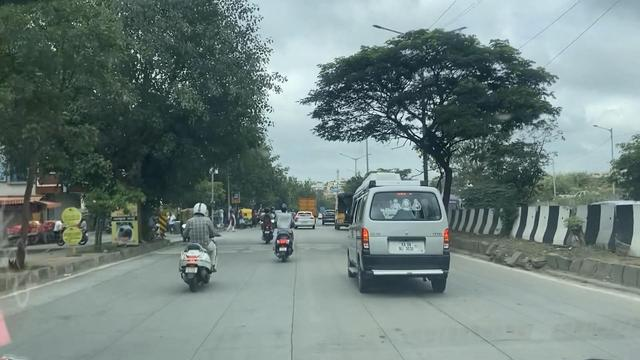LMV: (348, 192, 454, 298), (182, 189, 217, 287), (273, 187, 298, 261)
